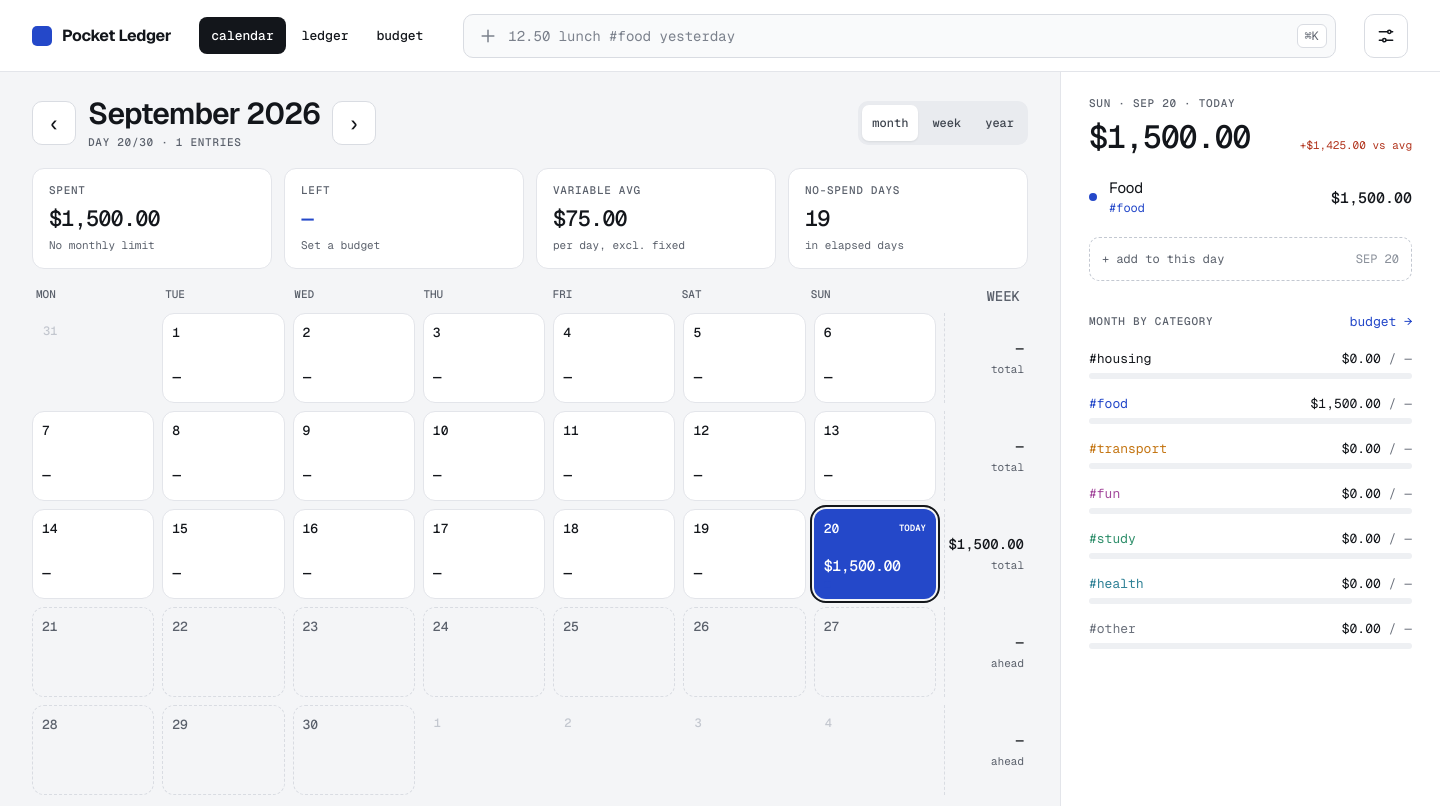
Scenario: applies a waiting recurring charge immediately when deleting a normal expense frees capacity
Click the button with aria-label "Edit Food expense". click: {"x": 1126, "y": 188}
box: [1089, 169, 1412, 225]
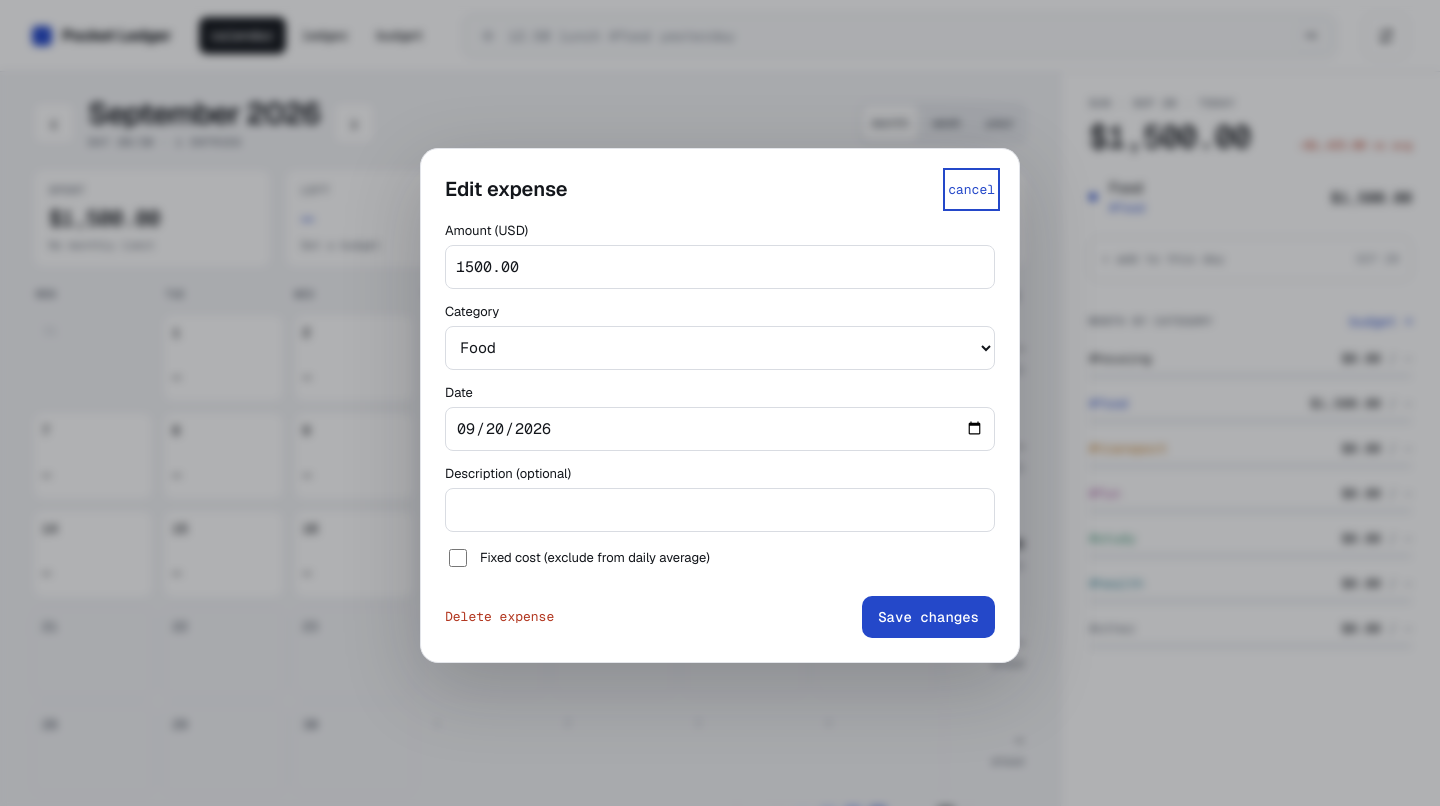
Click the button "Delete expense". click: {"x": 500, "y": 616}
box: [445, 596, 554, 638]
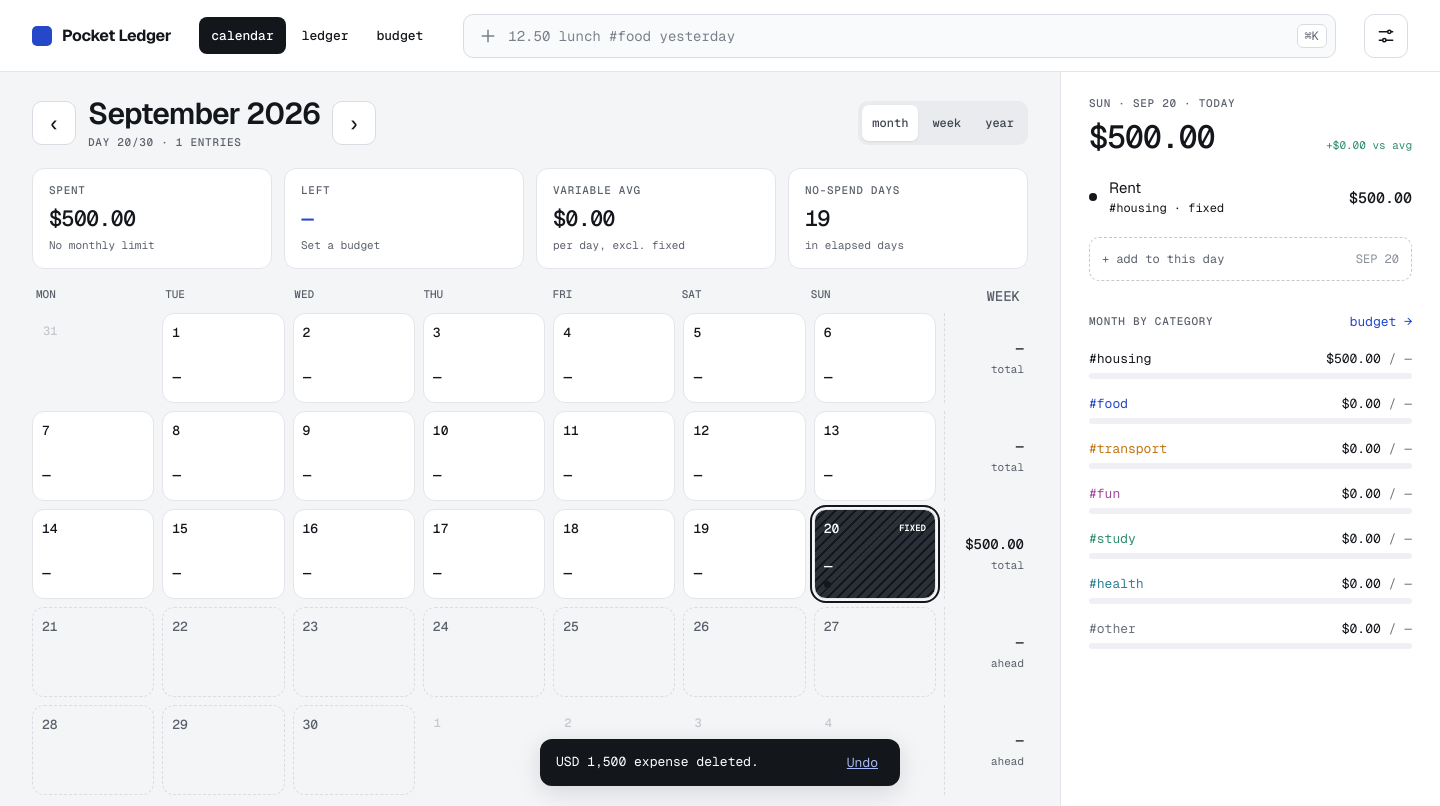
Check: the button with aria-label "Edit Rent" is shown, box [1089, 169, 1412, 225]
